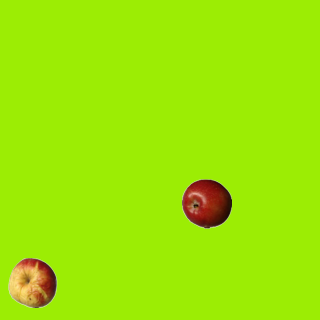Apple Braeburn: (181, 178, 231, 228)
Apple Red Yellow 1: (7, 257, 57, 307)
